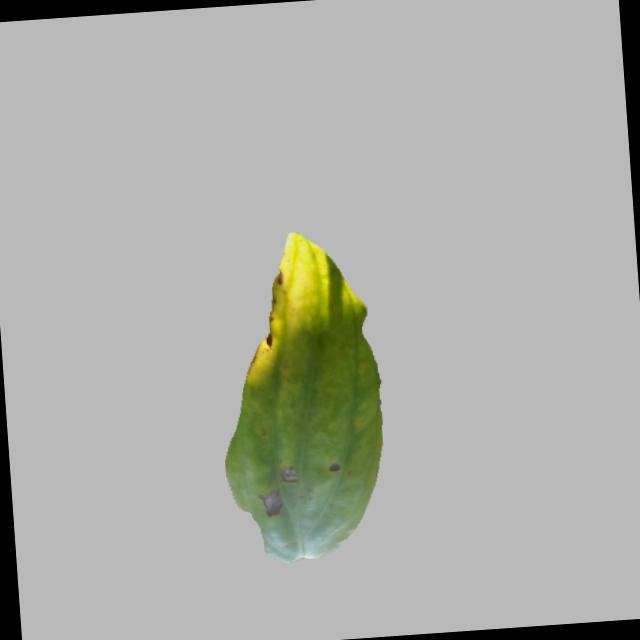yellow-mottle-virus: (198, 226, 397, 572)
